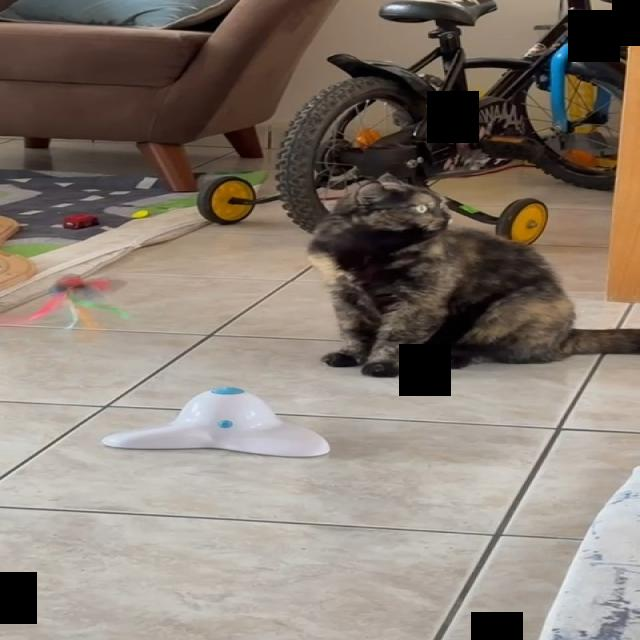authorized: (305, 172, 639, 378)
